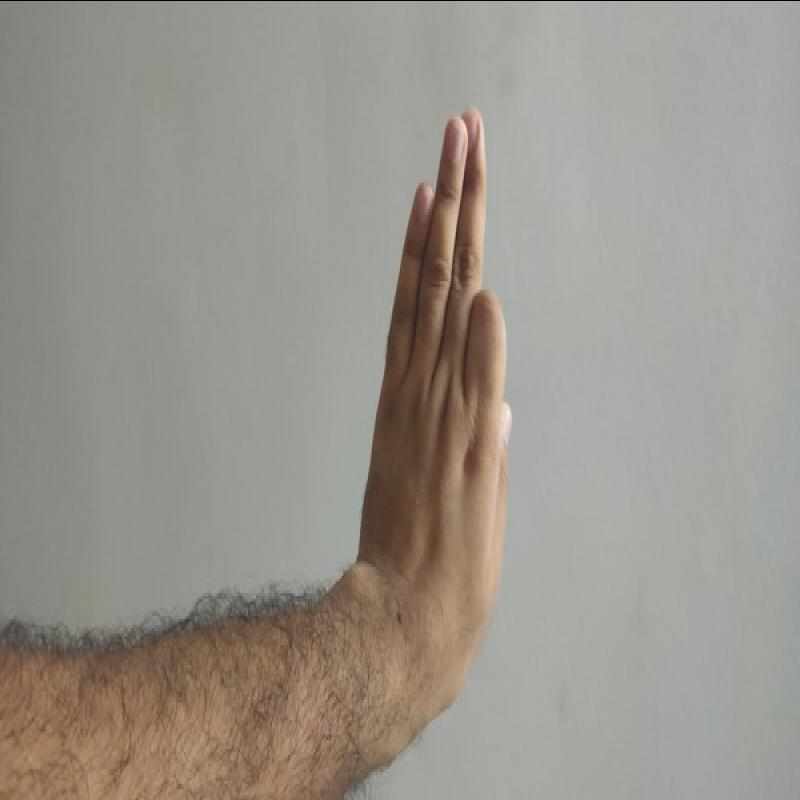Mudraakhyam: (352, 95, 533, 645)
